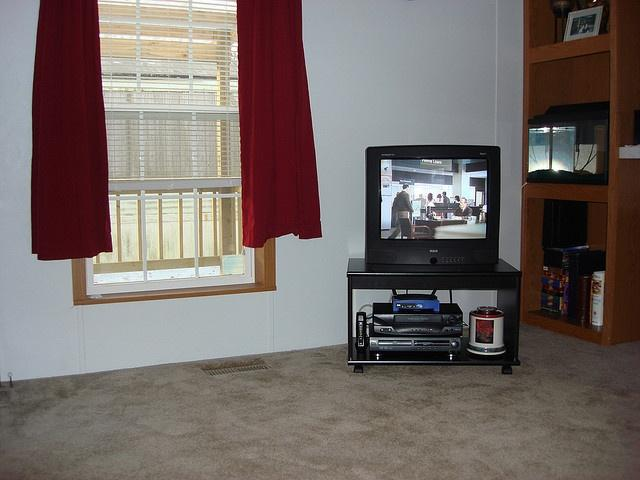AIO PC-Monitor-TV: (365, 146, 501, 267)
Rak: (519, 0, 615, 343)
